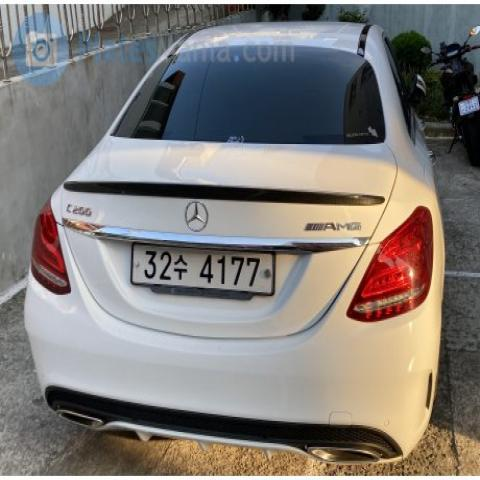LP: (125, 232, 284, 304)
